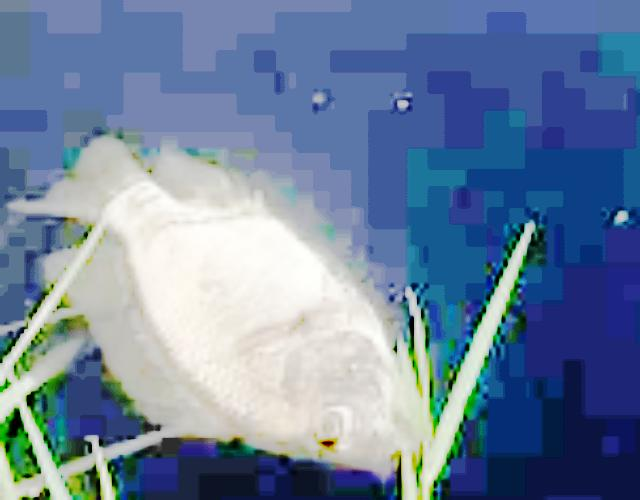Columnaris Disease: (59, 140, 398, 454)
